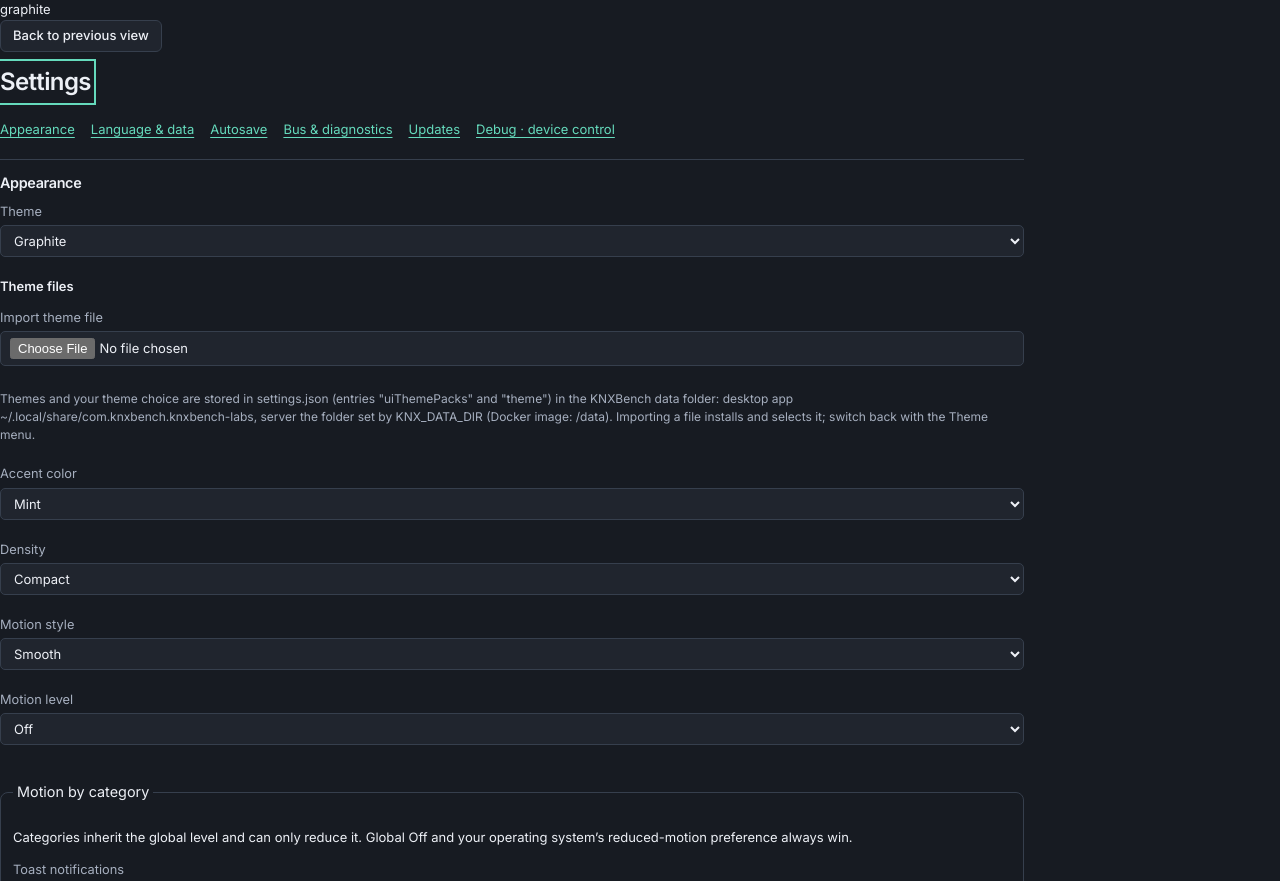
Test: Appearance theme files through the actual parent/runtime › routes an imported choice in the original Theme selector through conditional selection
Step 1. Select "Blueprint" in the dropdown labelled "Theme" → point(512, 241), box [0,225,1024,257]
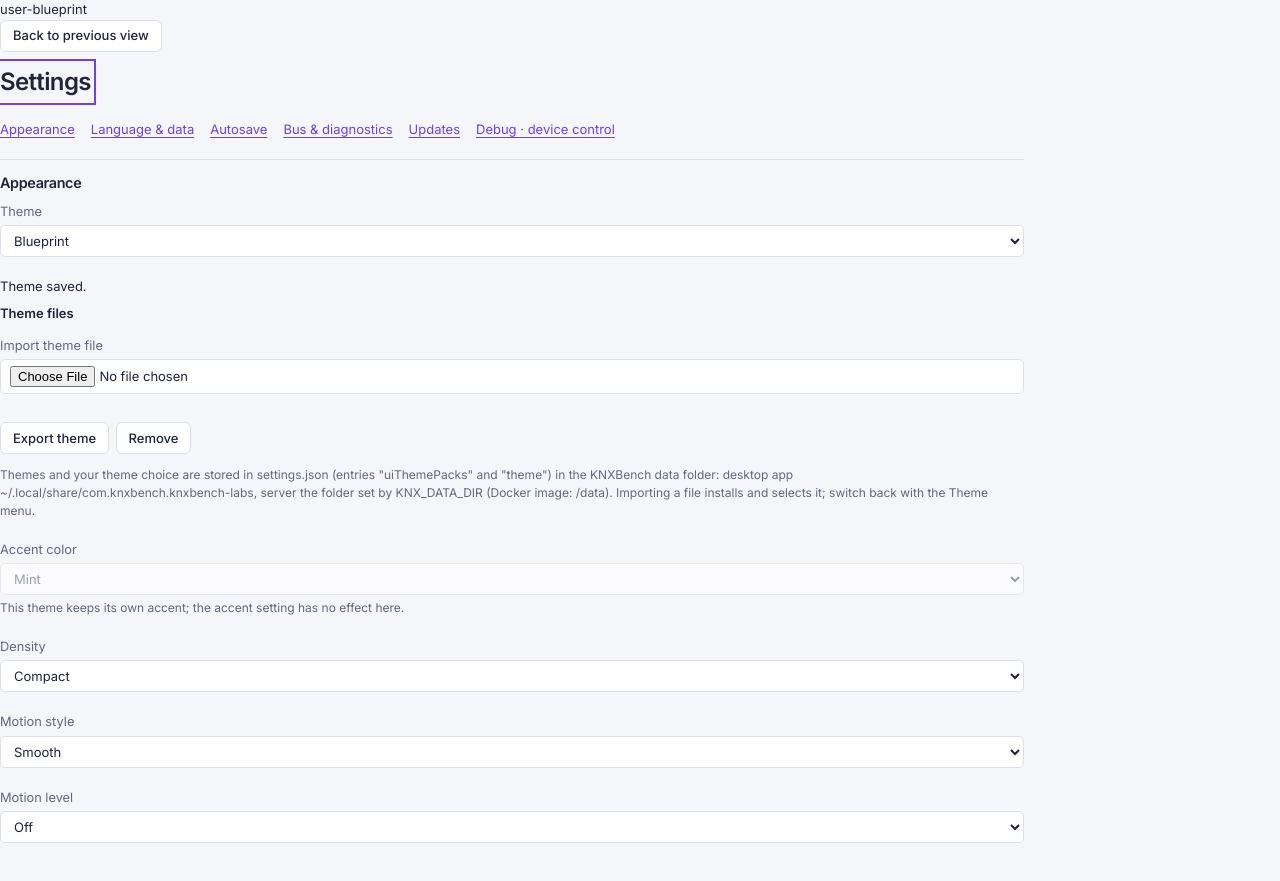
Expected: the text "user-blueprint" is shown, [0,1,87,17]
